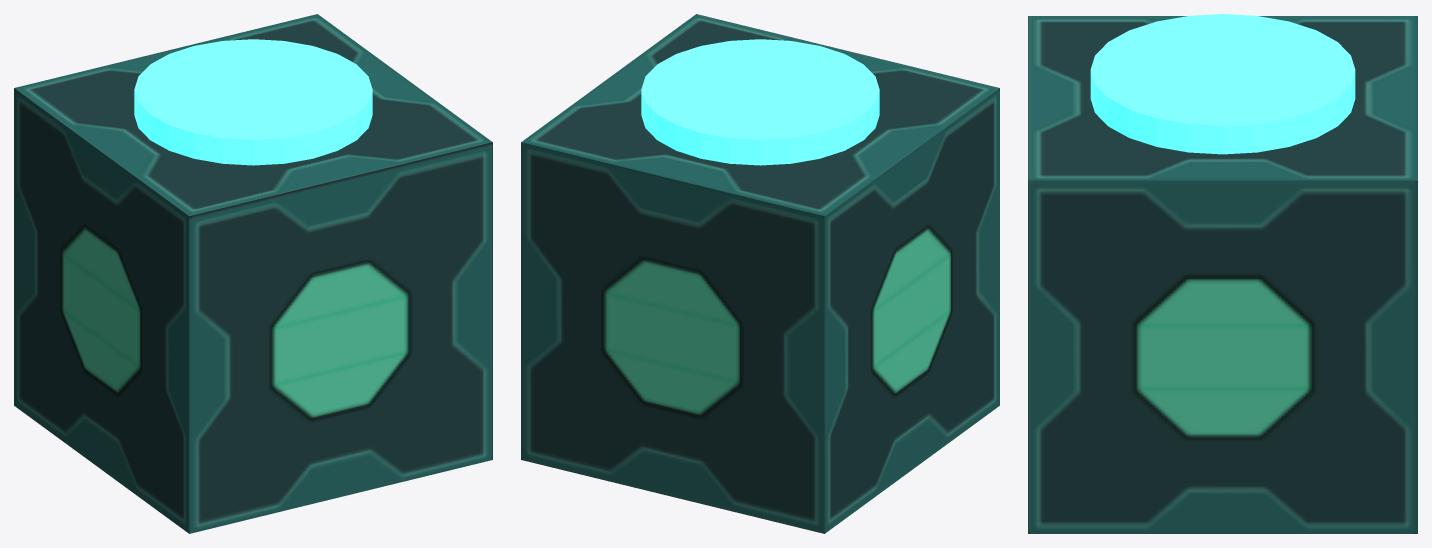
File: meseeksCube.fbx
3 renders of one model, left to right at view 1: azimuth 30°, elevation 25°; view 2: azimuth 150°, elevation 25°; view 3: azimuth 270°, elevation 25°, orthographic. The views are drawn at different scales.
Visible parts, largest first — view 1: MeseeksCube, Cylinder; view 2: MeseeksCube, Cylinder; view 3: MeseeksCube, Cylinder.
Part boxes in pixels (x1,y1,x2,y2): MeseeksCube: (14, 14, 492, 533); Cylinder: (134, 39, 372, 165); MeseeksCube: (521, 14, 999, 533); Cylinder: (641, 39, 879, 165); MeseeksCube: (1028, 16, 1417, 533); Cylinder: (1090, 14, 1355, 154).
Bounding box in the file's own units: 200 × 216 × 200.
